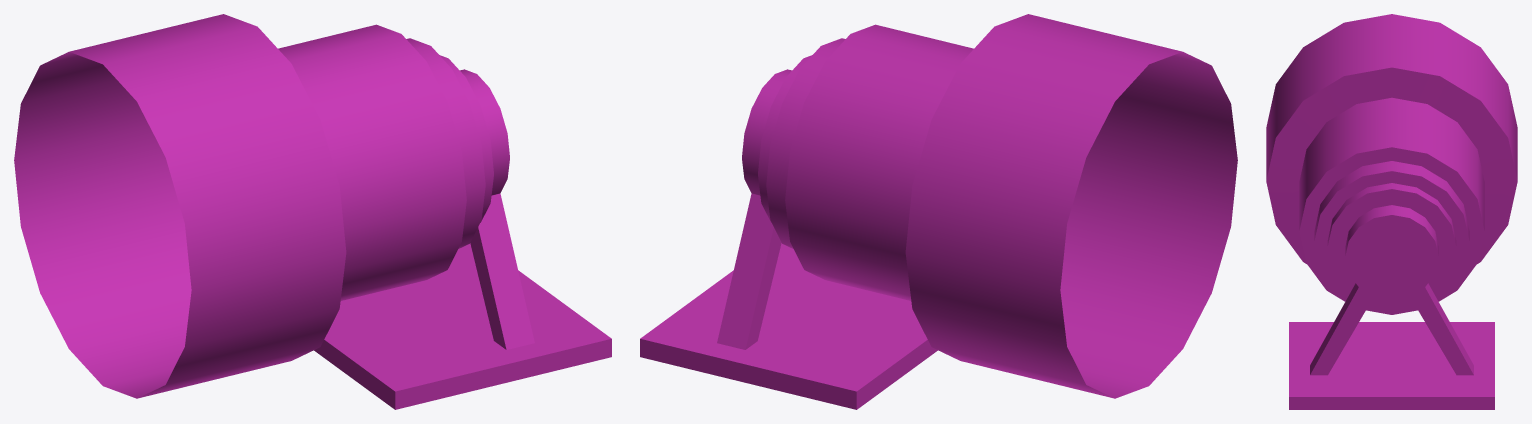
File: SM_Generator.fbx
The picture shows the model from 3 angles, left to right: view 1: azimuth 30°, elevation 25°; view 2: azimuth 150°, elevation 25°; view 3: azimuth 270°, elevation 25°; orthographic projection. The views are drawn at different scales.
Parts seen in each view (by area): view 1: generator; view 2: generator; view 3: generator.
Part boxes in pixels (left/top/right/bottom): generator: left=14, top=14, right=611, bottom=409; generator: left=640, top=14, right=1237, bottom=409; generator: left=1266, top=14, right=1517, bottom=409.
Size of the model in its own units: 49.69 by 37.66 by 35.01.
